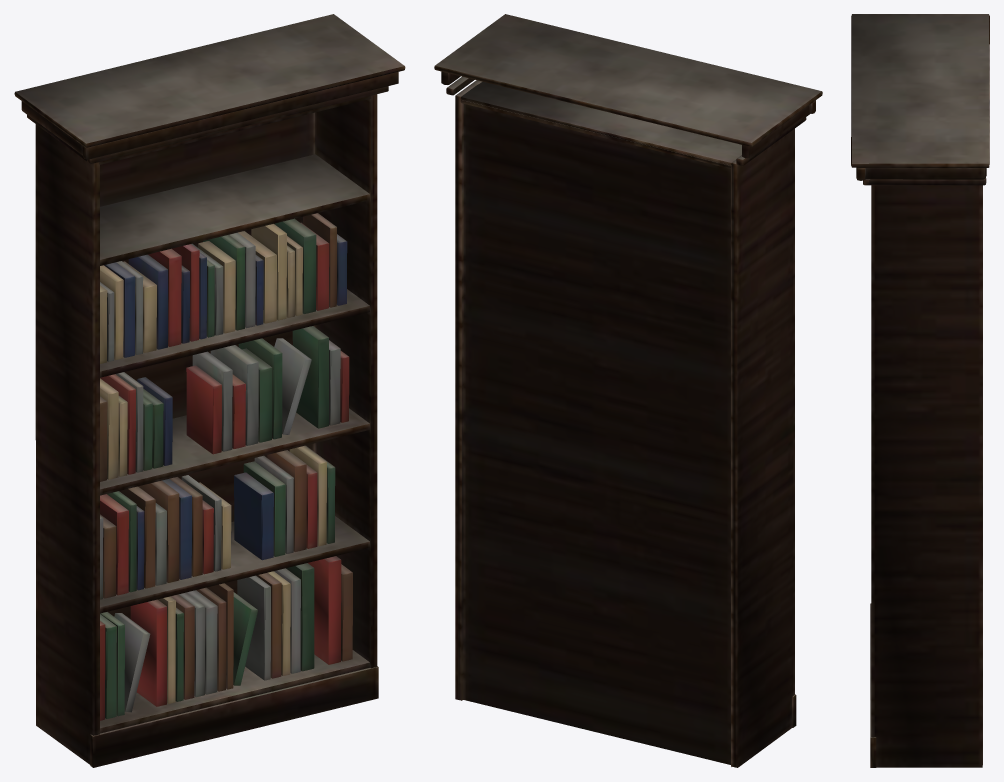
File: bookshelf-low.glb
3 views of the same model, side by side, from view 1: azimuth 30°, elevation 25°; view 2: azimuth 150°, elevation 25°; view 3: azimuth 270°, elevation 25° (orthographic). The views are drawn at different scales.
Visible parts, largest first — view 1: bookshelf-low; view 2: bookshelf-low; view 3: bookshelf-low.
Boxes of the visible parts, bbox=[...] form: bookshelf-low: bbox=[14, 14, 405, 767]; bookshelf-low: bbox=[434, 14, 822, 767]; bookshelf-low: bbox=[851, 14, 989, 767].
Size of the model in its own units: 1.08 by 2.05 by 0.4211.
1 material, 1 textured.
